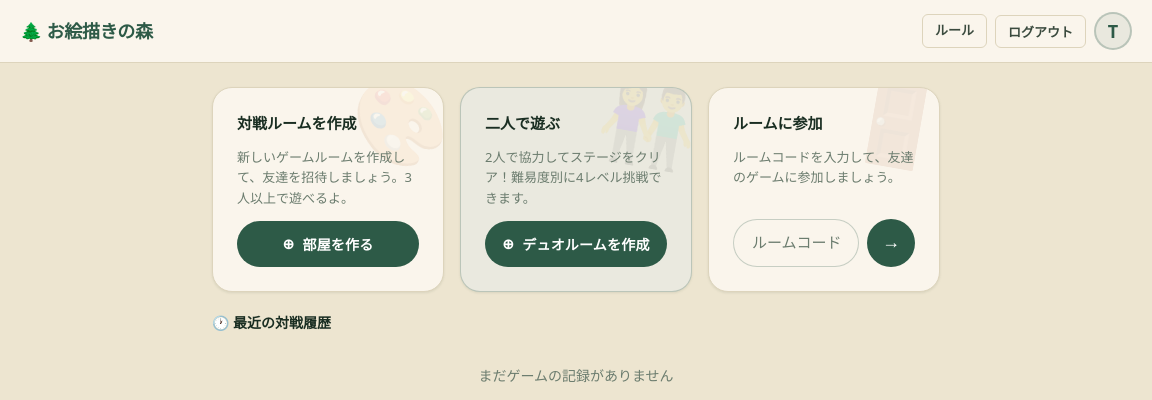
Scenario: Lobby ページ（ログイン済み） › ルーム作成中はボタンが無効化される
The width and height of the screenshot is (1152, 400).
Click the button "⊕ 部屋を作る" at (328, 244), box [237,221,419,267]
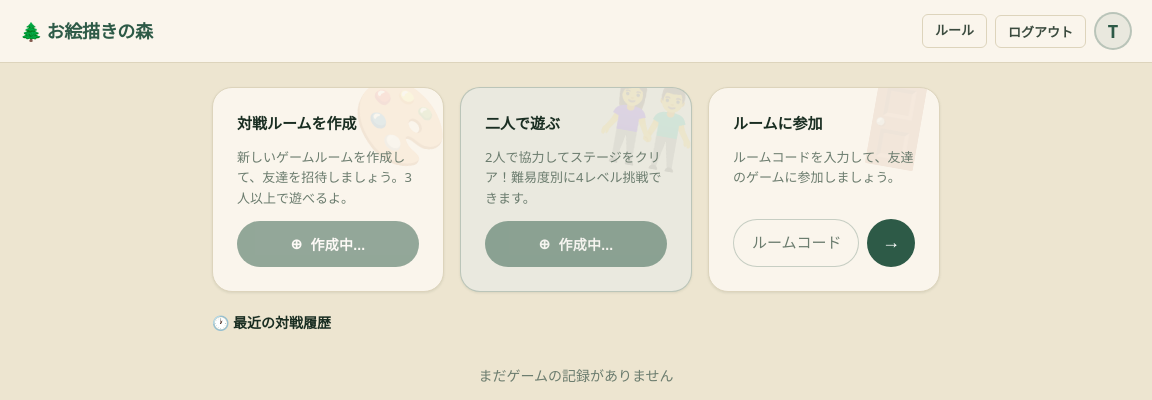
Now the button "⊕ 作成中..." below "新しいゲームルームを作成して、友達を招待しましょう。3人以上で遊べるよ。" is disabled, box [237,221,419,267]
Now the button "⊕ 作成中..." below "2人で協力してステージをクリア！難易度別に4レベル挑戦できます。" is disabled, box [485,221,667,267]
